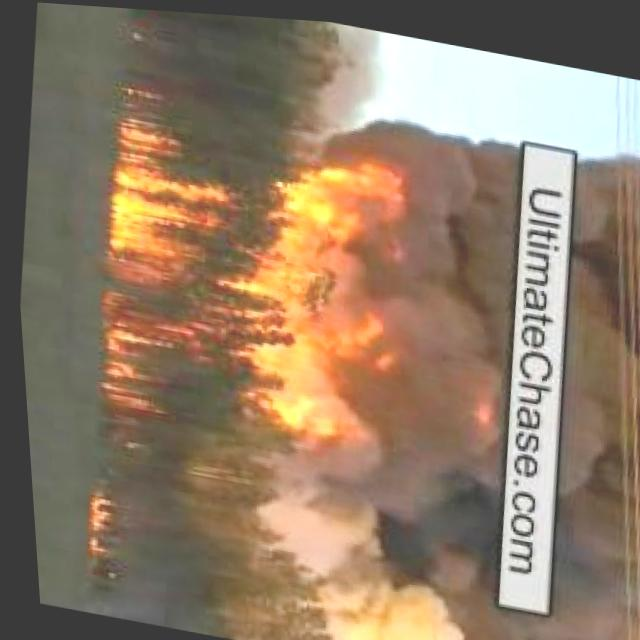helmet: (73, 104, 436, 462), (77, 486, 111, 558)
no_helmet: (275, 81, 550, 640), (506, 129, 640, 640)
